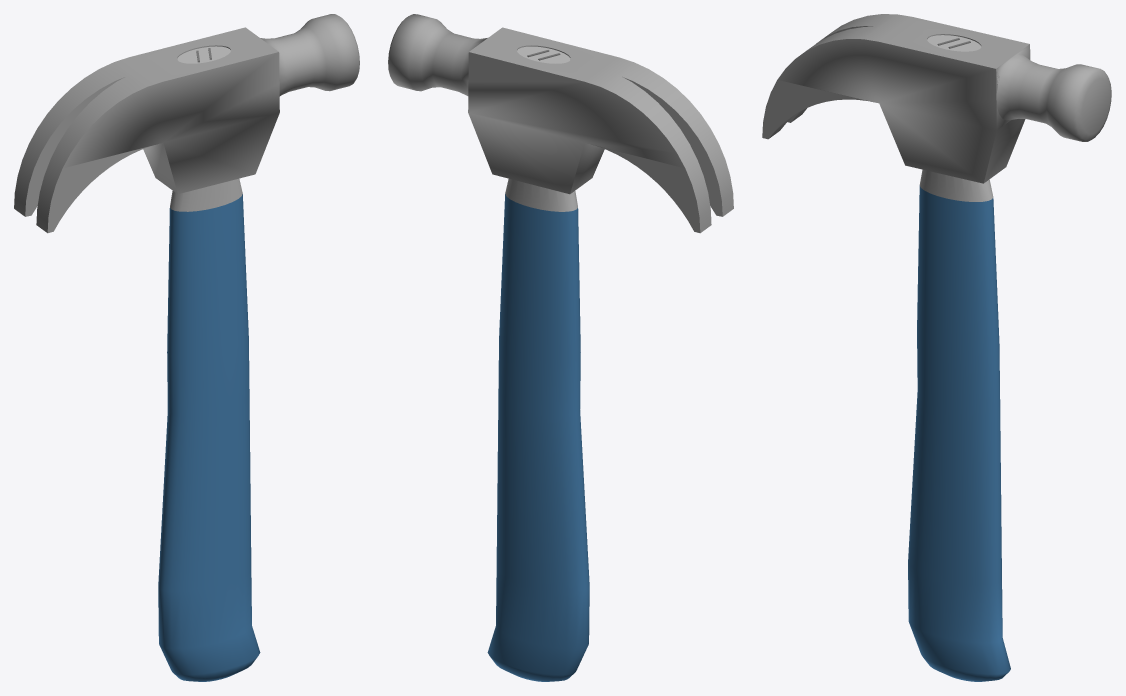
Rendered from Hammer.fbx.
3 renders of one model, left to right at view 1: azimuth 30°, elevation 25°; view 2: azimuth 150°, elevation 25°; view 3: azimuth 330°, elevation 25°, orthographic.
Parts seen in each view (by area): view 1: Model; view 2: Model; view 3: Model.
Part boxes in pixels (box(x1,y1,x2,y2)): Model: box(14, 14, 359, 681); Model: box(388, 14, 733, 681); Model: box(762, 14, 1111, 681).
Bounding box in the file's own units: 17.79 × 34.06 × 3.66.
